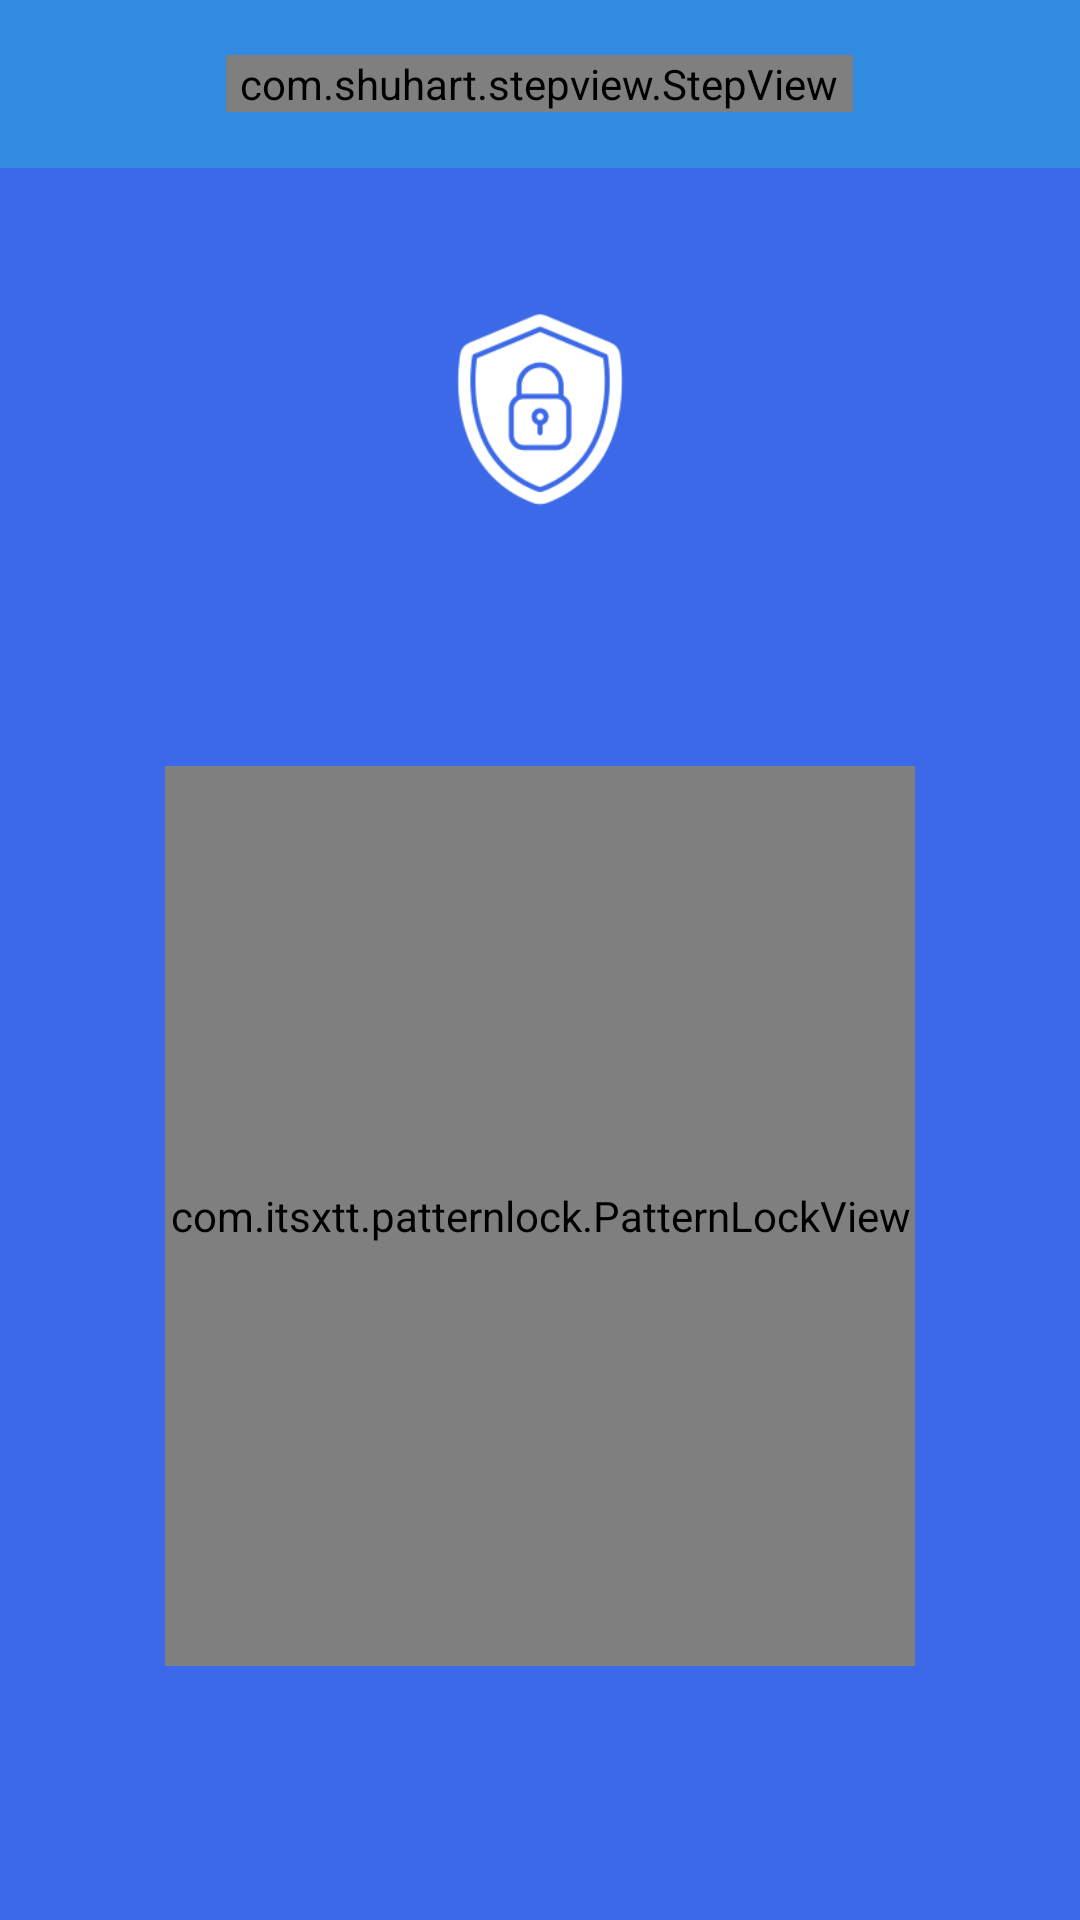

Where icons sit on this 1080x1920 app screen, as (x1, y1, x2, y2):
cyber security: (458, 314, 623, 505)
